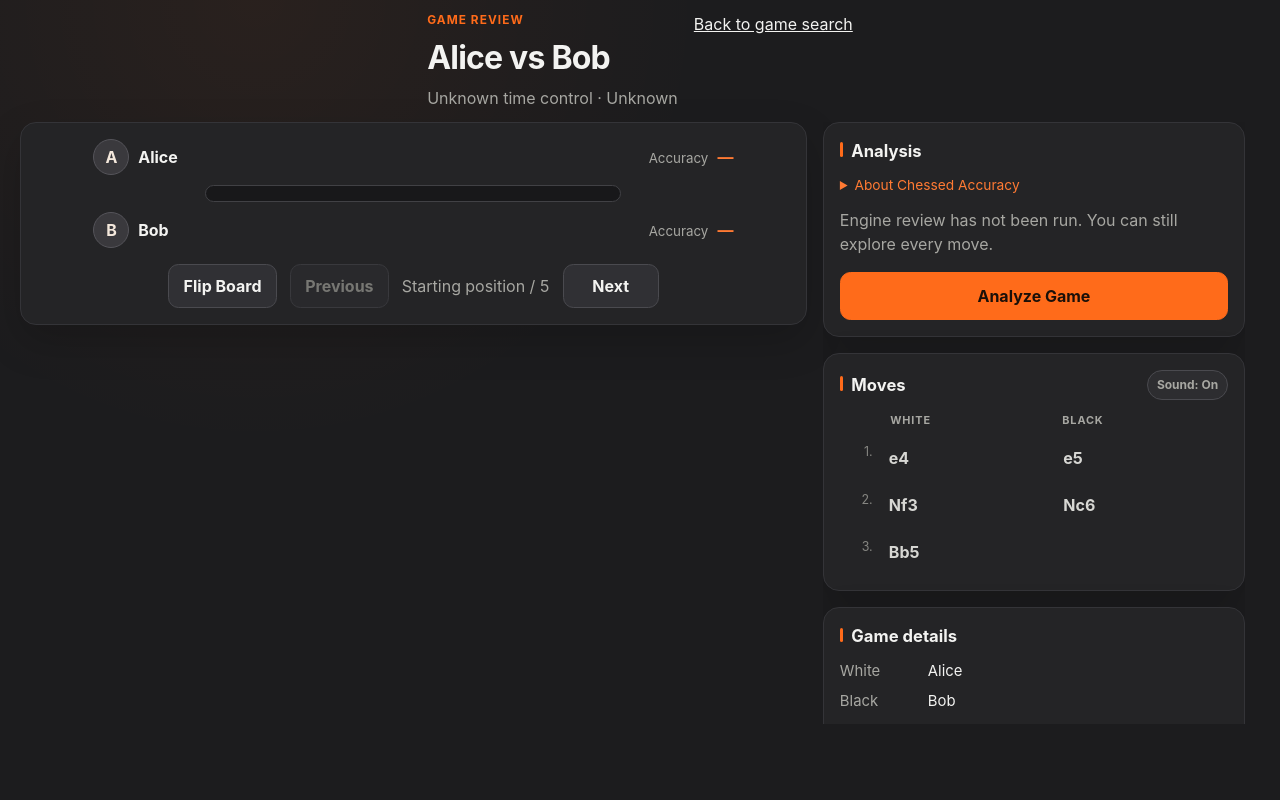
Test case: review-page analysis workflow › keeps color-owned accuracy with player rows in black orientation
The image size is (1280, 800).
Click the button "Analyze Game" at x=1034, y=296, box [840,272,1228,320]
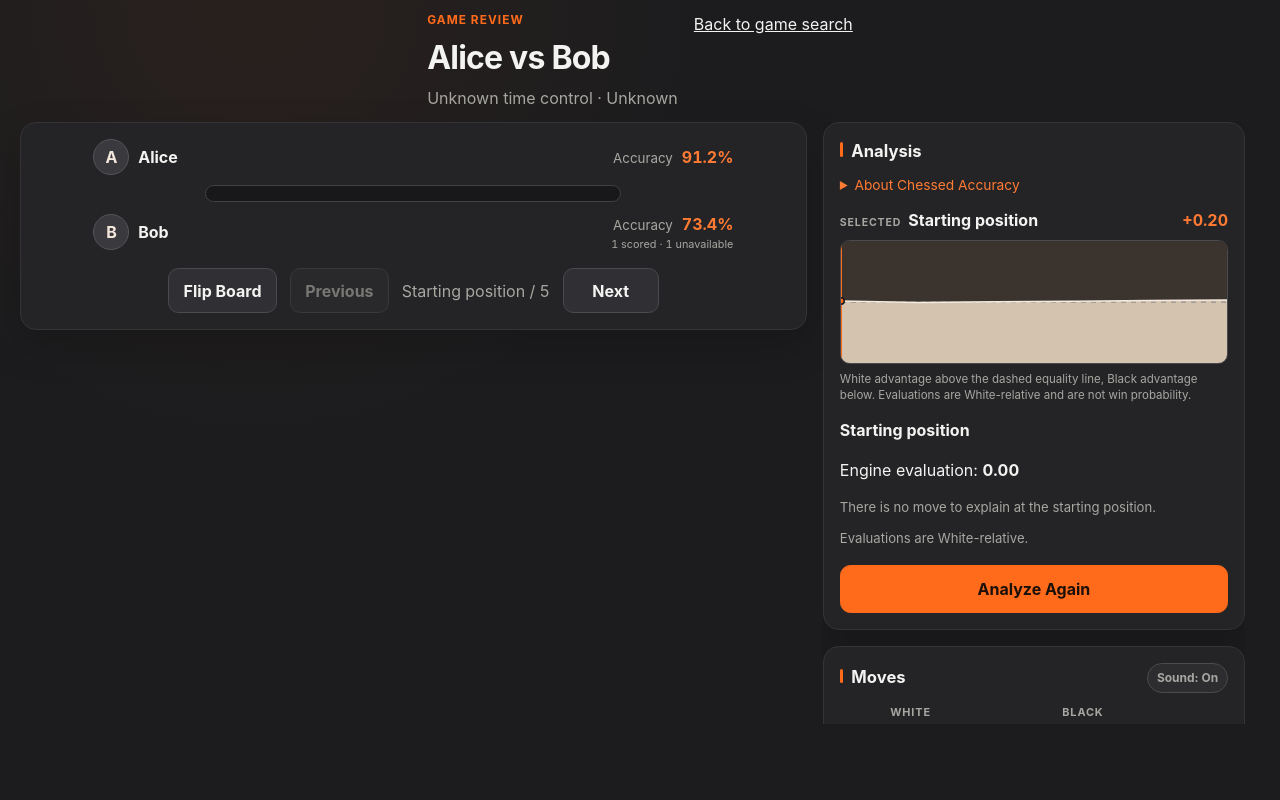
Expected: the text "91.2%" is shown, [682,147,733,167]
Expected: the element showing "A Alice Accuracy 91.2%" is shown, [93,139,733,175]
Expected: the element showing "B Bob Accuracy 73.4% 1 scored · 1 unavailable" is shown, [93,212,733,252]
